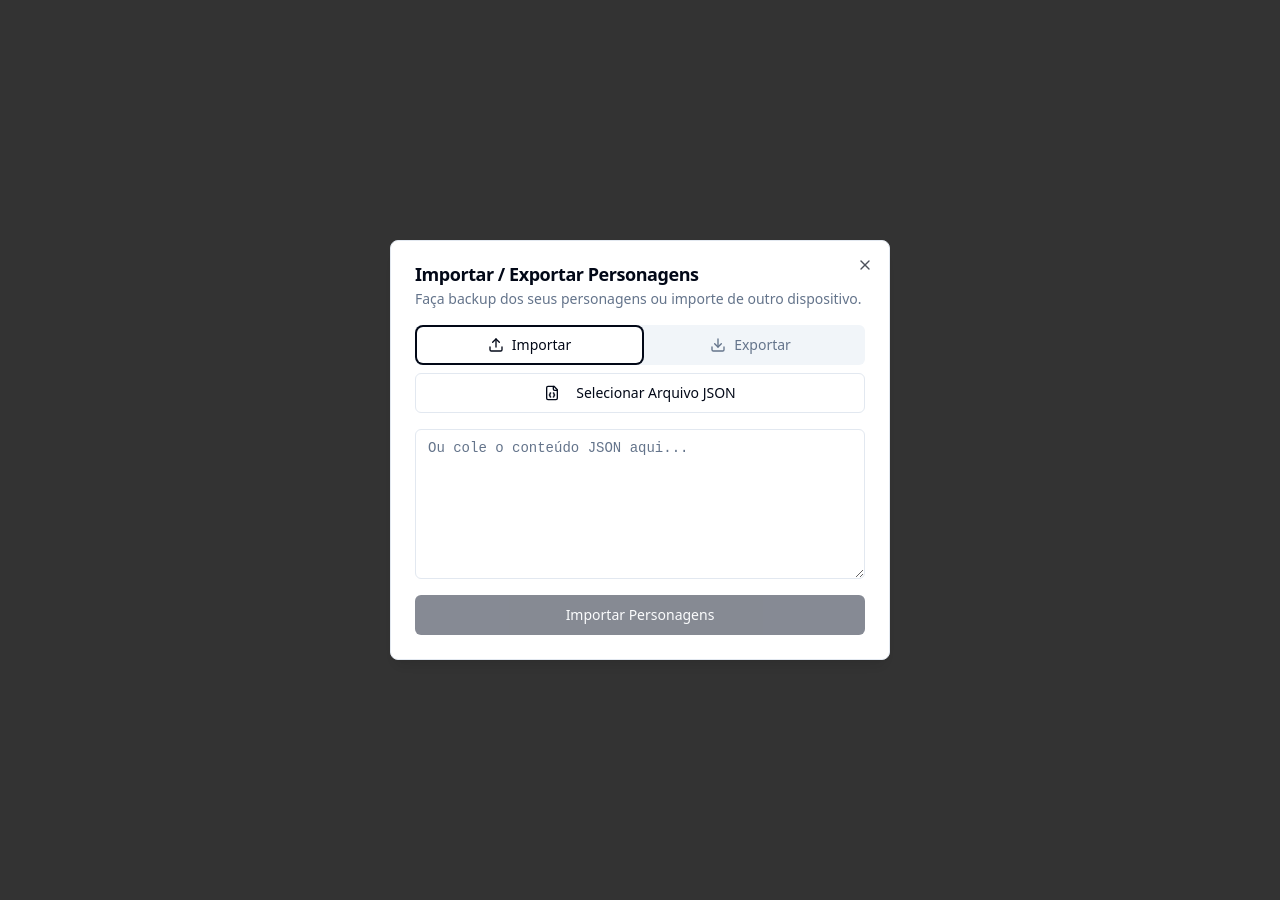
Test case: ImportExportDialog › should switch to export tab
Click the tab "Exportar".
click(750, 345)  # box x1=640 y1=329 x2=861 y2=361
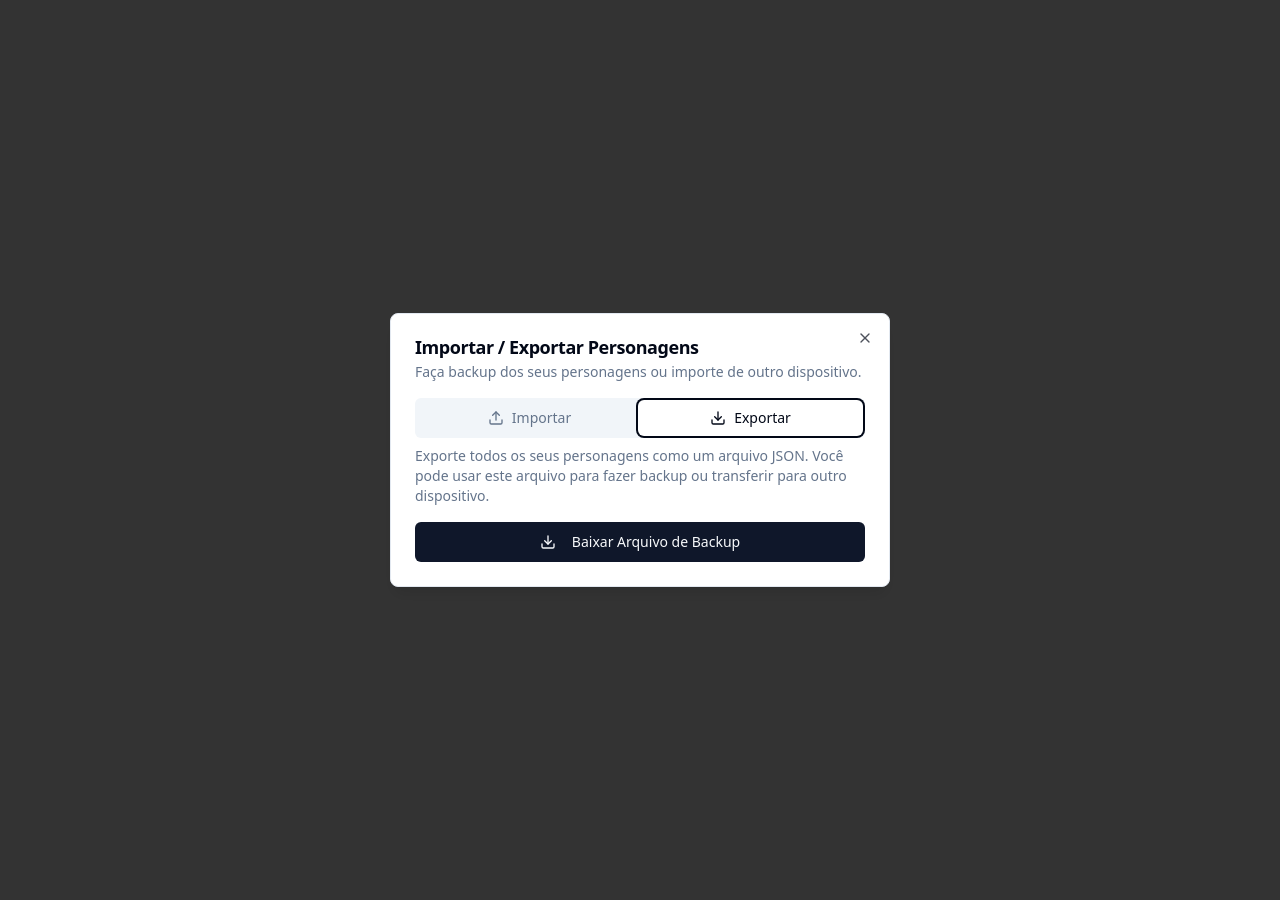
Check: the button "Baixar Arquivo de Backup" is shown, box x1=415 y1=522 x2=865 y2=562
